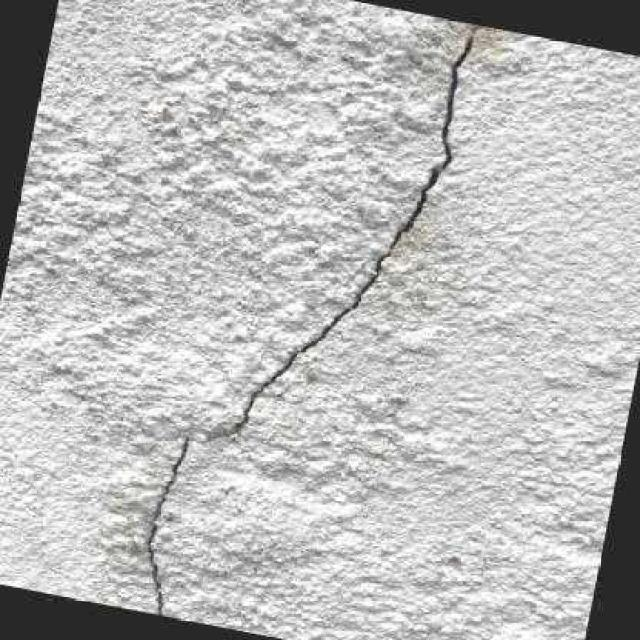D00: (142, 24, 484, 615)
